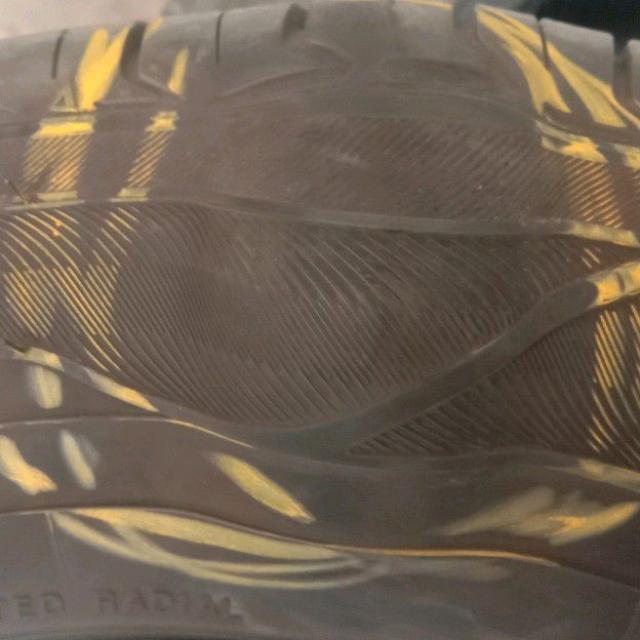Bulge: (168, 49, 594, 537)
